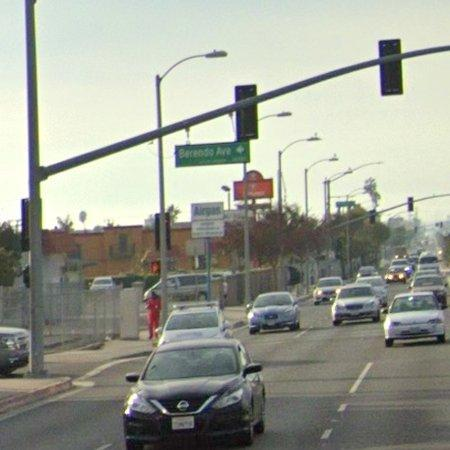traffic lights: (380, 39, 402, 57)
